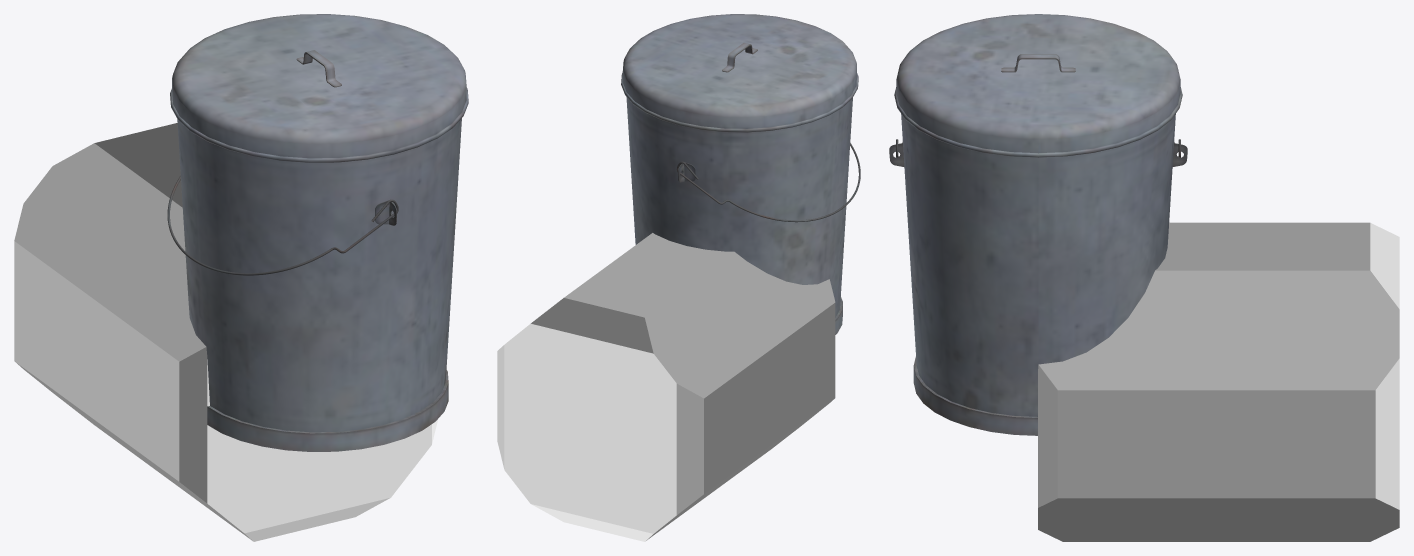
The model's file is SM_Dustbin_04.fbx.
3 renders of one model, left to right at view 1: azimuth 30°, elevation 25°; view 2: azimuth 150°, elevation 25°; view 3: azimuth 270°, elevation 25°, orthographic. The views are drawn at different scales.
Parts seen in each view (by area): view 1: SM_Dustbin_04_LOD0, SM_Dustbin_04_ConvexHulls; view 2: SM_Dustbin_04_ConvexHulls, SM_Dustbin_04_LOD0; view 3: SM_Dustbin_04_ConvexHulls, SM_Dustbin_04_LOD0.
Boxes of the visible parts, x1,y1,x2,y2 form: SM_Dustbin_04_LOD0: (167,14,468,451); SM_Dustbin_04_ConvexHulls: (14,123,438,541); SM_Dustbin_04_ConvexHulls: (497,233,835,541); SM_Dustbin_04_LOD0: (621,14,860,334); SM_Dustbin_04_ConvexHulls: (1038,222,1399,541); SM_Dustbin_04_LOD0: (889,14,1187,435).
Size of the model in its own units: 61.74 by 109 by 109.
